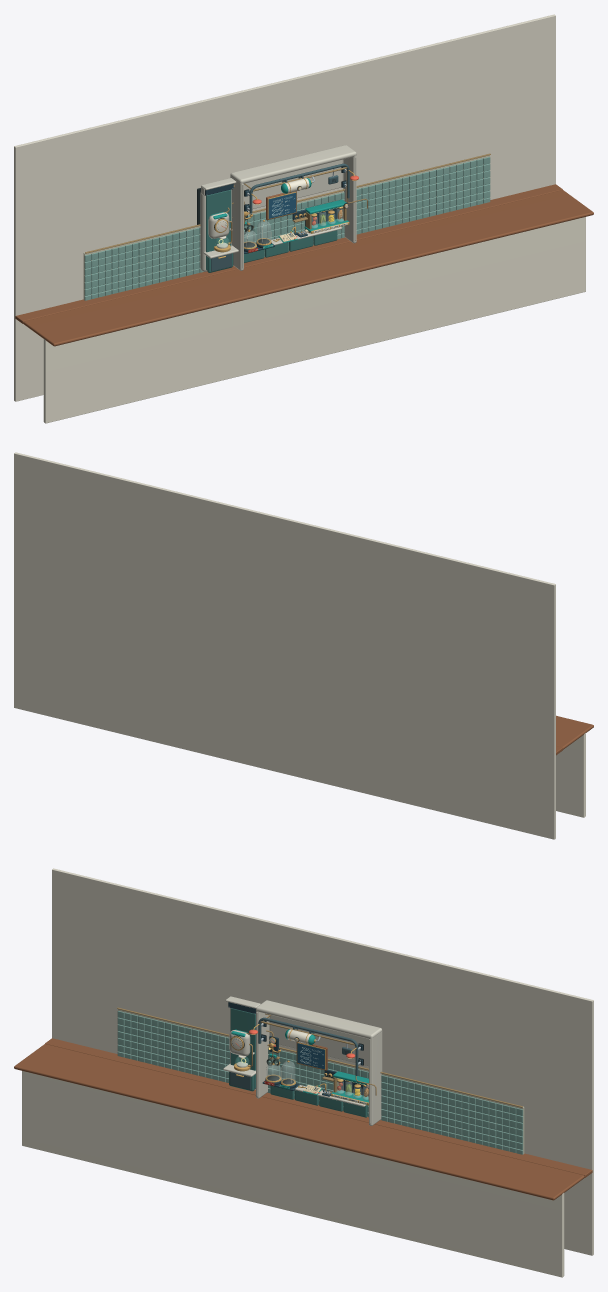
Rendered from kitchen.glb.
3 renders of one model, top to bottom at view 1: azimuth 30°, elevation 25°; view 2: azimuth 150°, elevation 25°; view 3: azimuth 330°, elevation 25°, orthographic.
Visible parts, largest first — view 1: Fixed Warm matte plaster, Fixed Laboratory ivory enamel.006, Fixed Walnut counter.002, Fixed Soft turquoise glaze, Fixed Recessed cream enamel, Fixed Walnut counter, Fixed Quiet cabinet enamel.001, Fixed Warm grout, Fixed Quiet cabinet enamel, Fixed Recessed cream enamel.001, Fixed Soft turquoise light glaze, Fixed Soft turquoise shade glaze (+3 smaller); view 2: Fixed Warm matte plaster, Fixed Laboratory ivory enamel.006, Fixed Walnut counter.002; view 3: Fixed Warm matte plaster, Fixed Laboratory ivory enamel.006, Fixed Walnut counter.002, Fixed Soft turquoise glaze, Fixed Recessed cream enamel, Fixed Walnut counter, Fixed Quiet cabinet enamel, Fixed Quiet cabinet enamel.001, Fixed Warm grout, Fixed Soft turquoise light glaze, Fixed Soft turquoise shade glaze, Fixed Aged service bronze (+2 smaller).
Boxes of the visible parts, x1=… form: Fixed Warm matte plaster: x1=14, y1=14, x2=555, y2=401; Fixed Laboratory ivory enamel.006: x1=43, y1=217, x2=585, y2=423; Fixed Walnut counter.002: x1=23, y1=190, x2=593, y2=346; Fixed Soft turquoise glaze: x1=84, y1=158, x2=490, y2=298; Fixed Recessed cream enamel: x1=230, y1=145, x2=356, y2=270; Fixed Walnut counter: x1=15, y1=184, x2=562, y2=323; Fixed Quiet cabinet enamel.001: x1=206, y1=189, x2=233, y2=272; Fixed Warm grout: x1=83, y1=155, x2=489, y2=300; Fixed Quiet cabinet enamel: x1=244, y1=230, x2=337, y2=262; Fixed Recessed cream enamel.001: x1=200, y1=178, x2=238, y2=271; Fixed Soft turquoise light glaze: x1=84, y1=166, x2=476, y2=300; Fixed Soft turquoise shade glaze: x1=91, y1=157, x2=490, y2=285; Fixed Warm matte plaster: x1=14, y1=452, x2=555, y2=839; Fixed Laboratory ivory enamel.006: x1=556, y1=733, x2=585, y2=817; Fixed Walnut counter.002: x1=556, y1=715, x2=593, y2=749; Fixed Warm matte plaster: x1=52, y1=868, x2=593, y2=1255; Fixed Laboratory ivory enamel.006: x1=22, y1=1071, x2=564, y2=1277; Fixed Walnut counter.002: x1=14, y1=1044, x2=584, y2=1200; Fixed Soft turquoise glaze: x1=117, y1=1011, x2=523, y2=1154; Fixed Recessed cream enamel: x1=256, y1=1000, x2=382, y2=1125; Fixed Walnut counter: x1=45, y1=1038, x2=592, y2=1177; Fixed Quiet cabinet enamel: x1=270, y1=1085, x2=367, y2=1117; Fixed Quiet cabinet enamel.001: x1=229, y1=1008, x2=255, y2=1091; Fixed Warm grout: x1=118, y1=1009, x2=524, y2=1154; Fixed Soft turquoise light glaze: x1=117, y1=1022, x2=509, y2=1151; Fixed Soft turquoise shade glaze: x1=124, y1=1026, x2=523, y2=1141; Fixed Aged service bronze: x1=117, y1=1007, x2=522, y2=1107.
Size of the model in its own units: 40 by 18 by 5.13.
